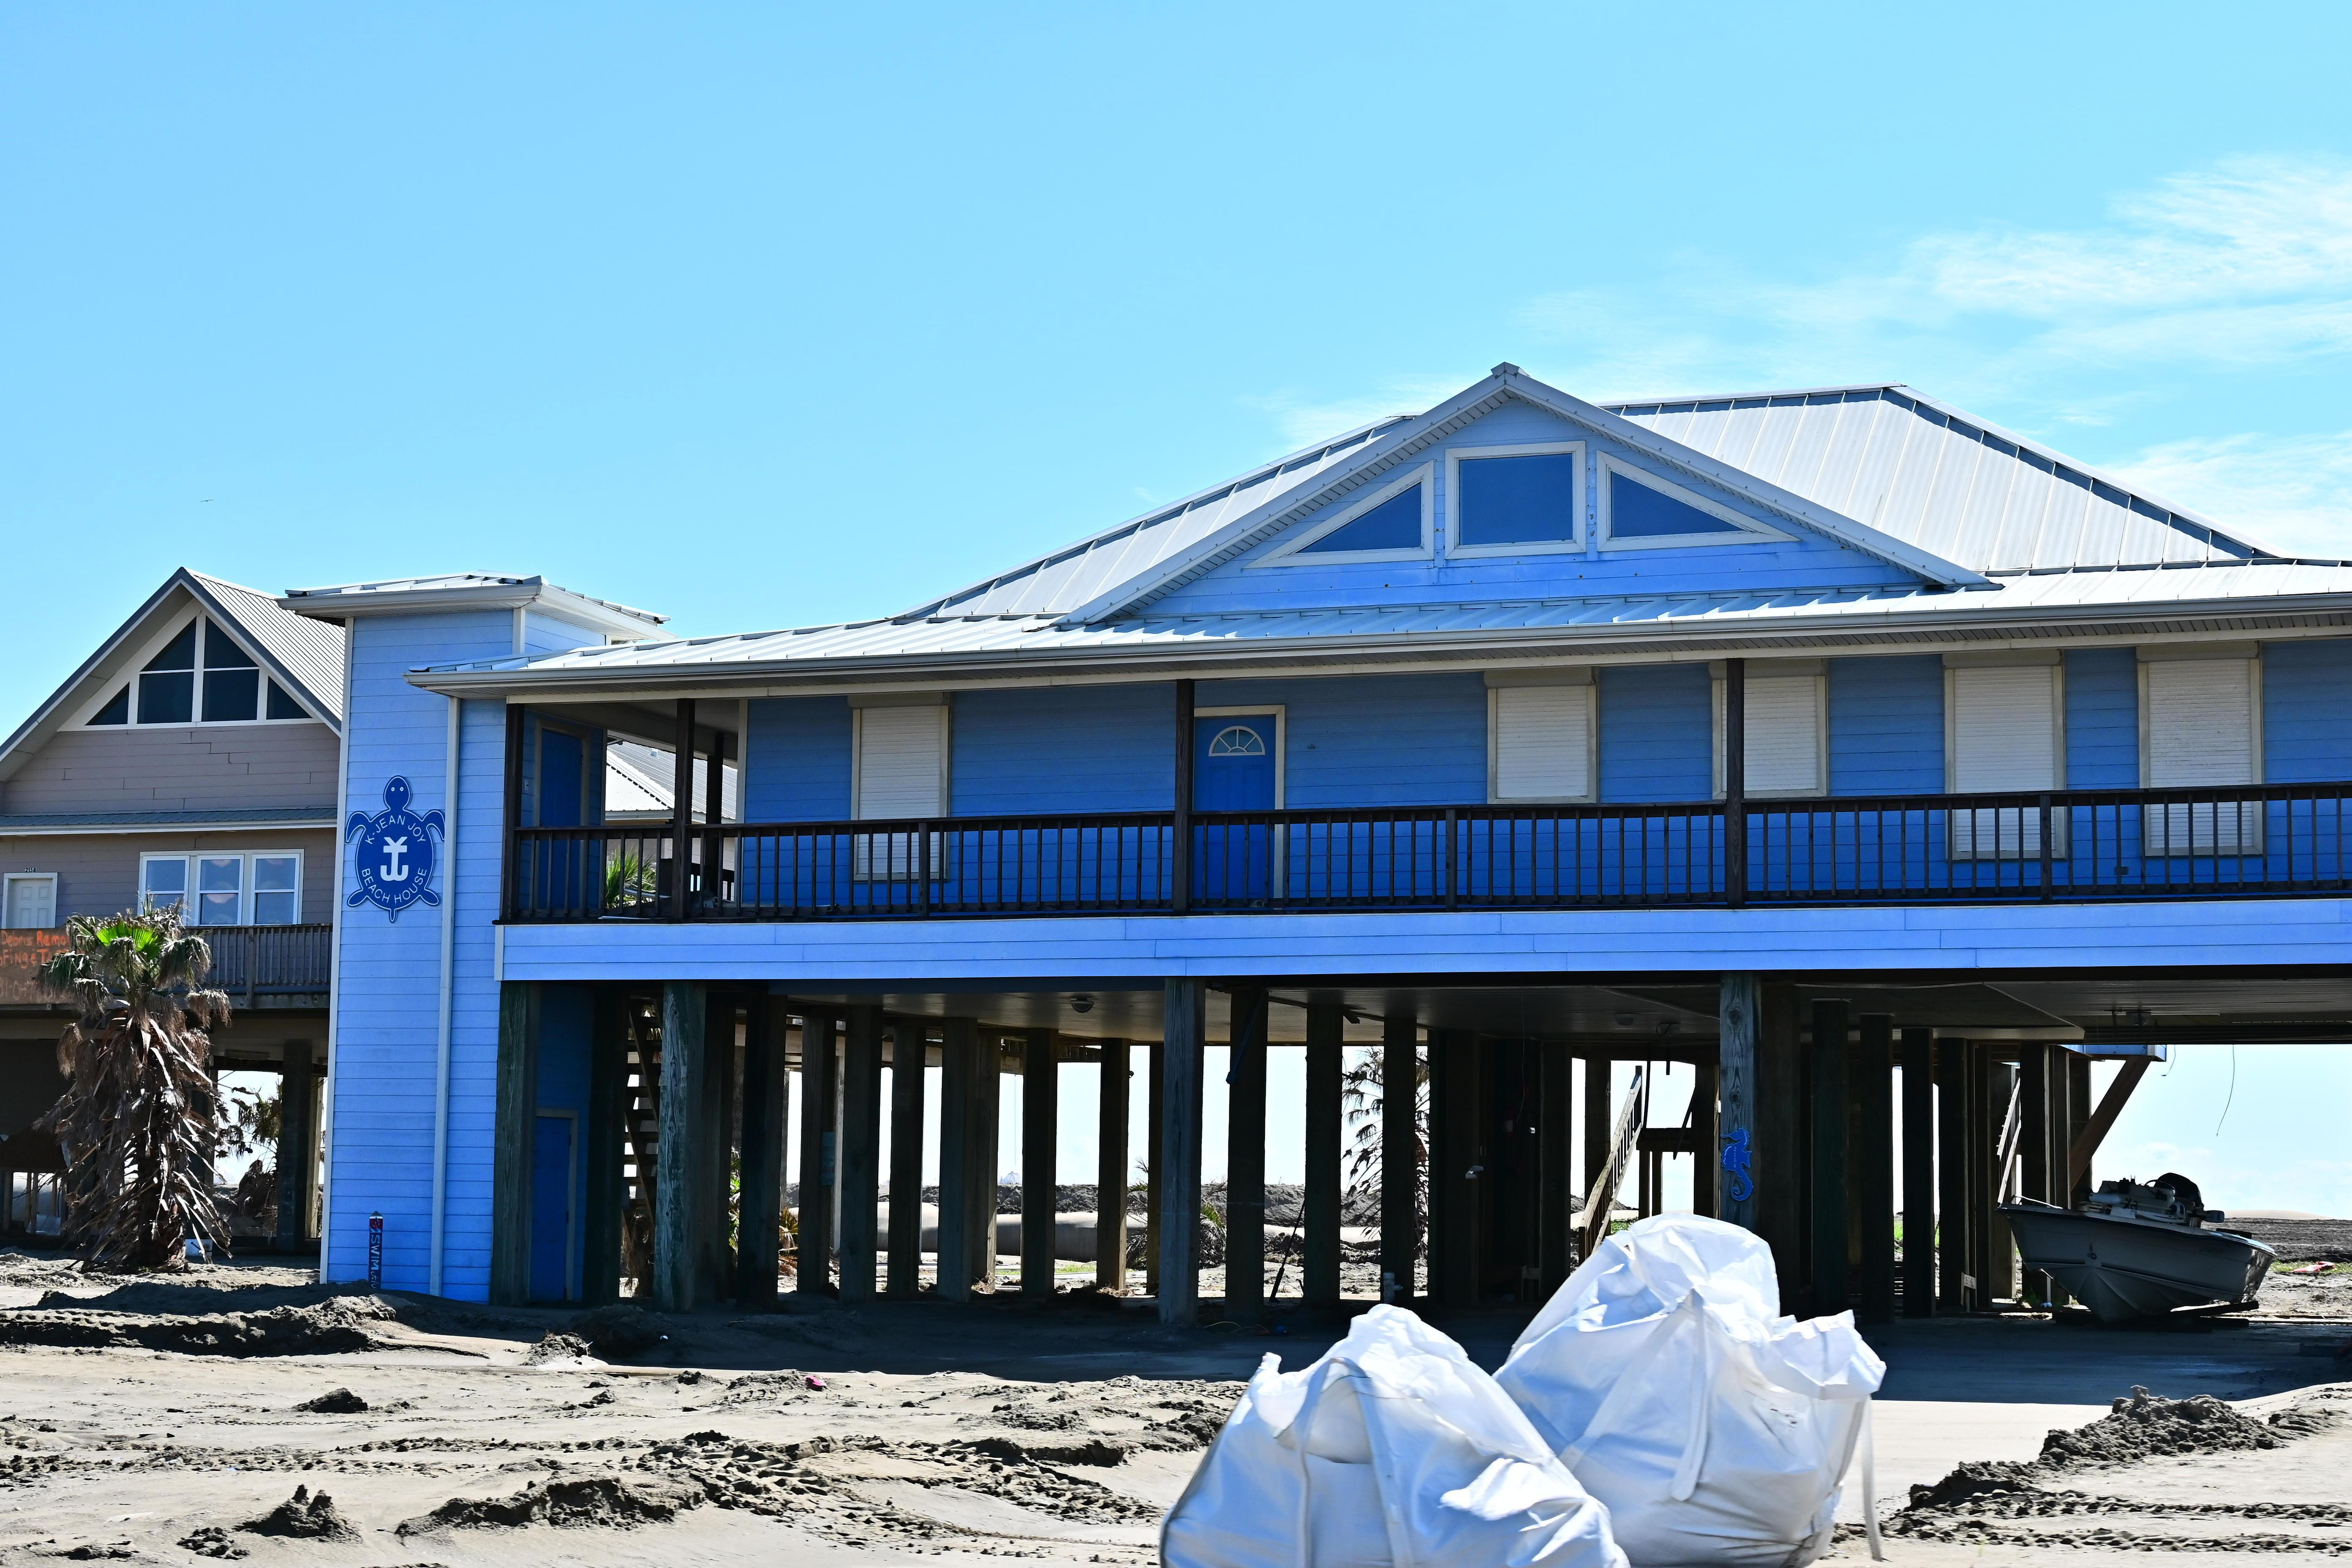affected: (343, 317, 2296, 1340)
